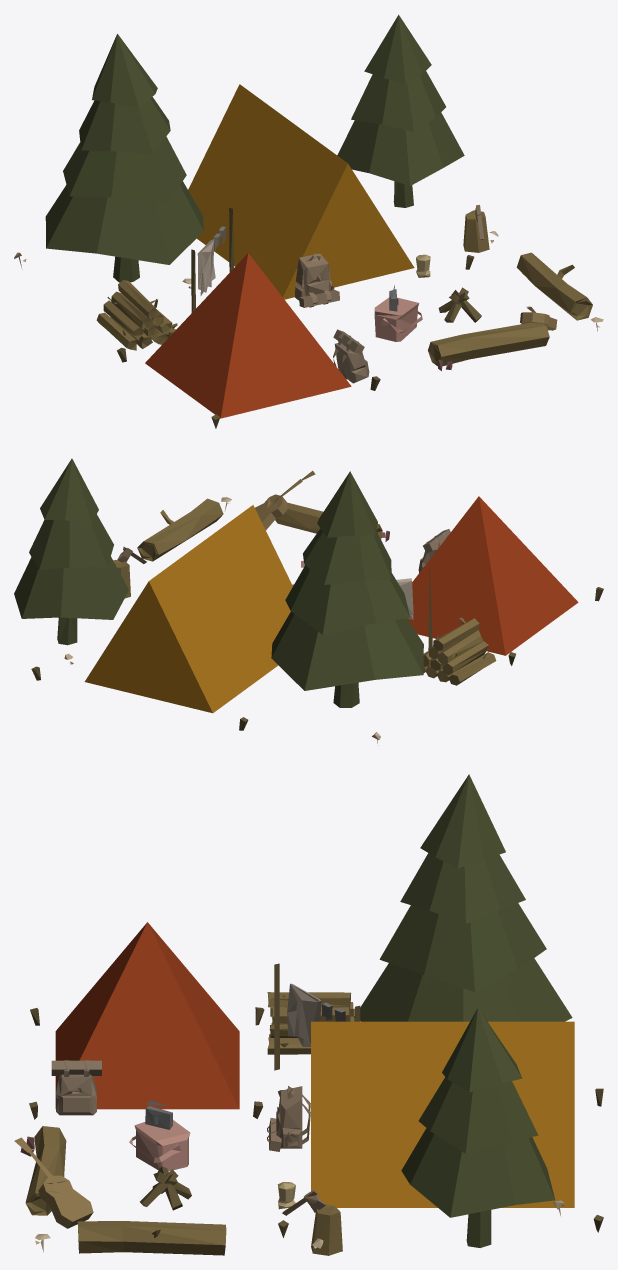
Rendered from campsite.lod1.glb.
3 renders of one model, top to bottom at view 1: azimuth 30°, elevation 25°; view 2: azimuth 150°, elevation 25°; view 3: azimuth 270°, elevation 25°, orthographic. The views are drawn at different scales.
Visible parts, largest first — view 1: Cylinder001_Material #124_0; view 2: Cylinder001_Material #124_0; view 3: Cylinder001_Material #124_0.
Boxes of the visible parts, x1,y1,x2,y2 form: Cylinder001_Material #124_0: (14, 14, 603, 428); Cylinder001_Material #124_0: (14, 458, 603, 745); Cylinder001_Material #124_0: (14, 774, 603, 1255).
Size of the model in its own units: 12 by 6.68 by 11.87.
